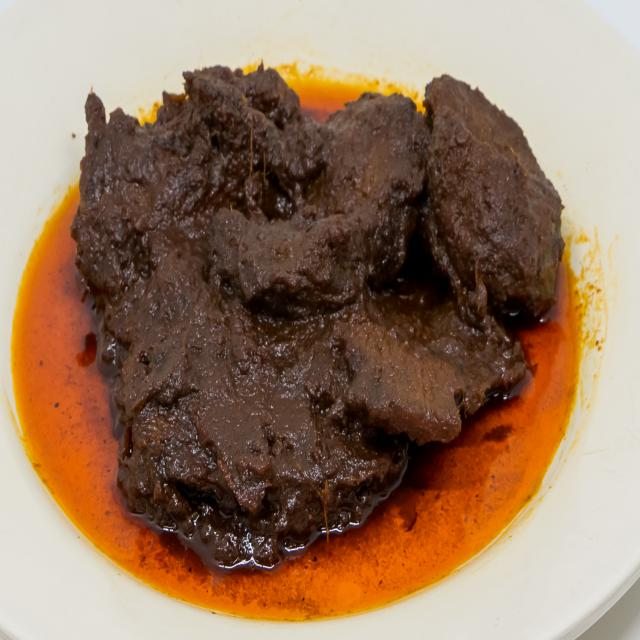Rendang: (64, 44, 569, 595)
